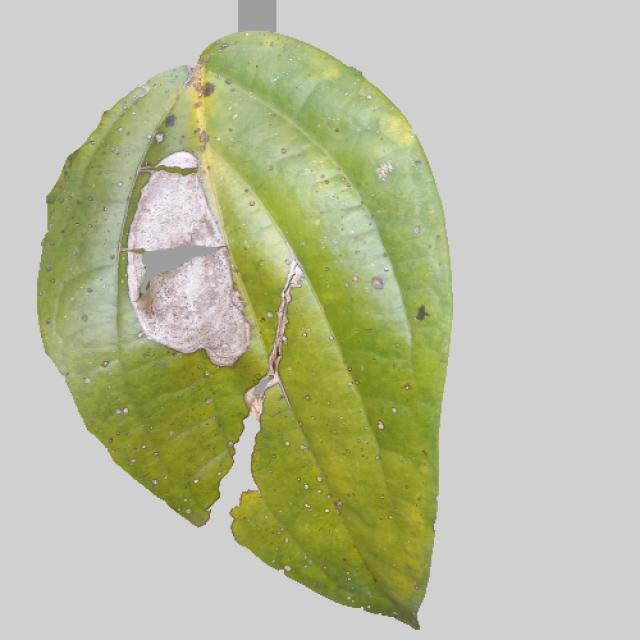leaf-blight: (31, 25, 459, 627)
